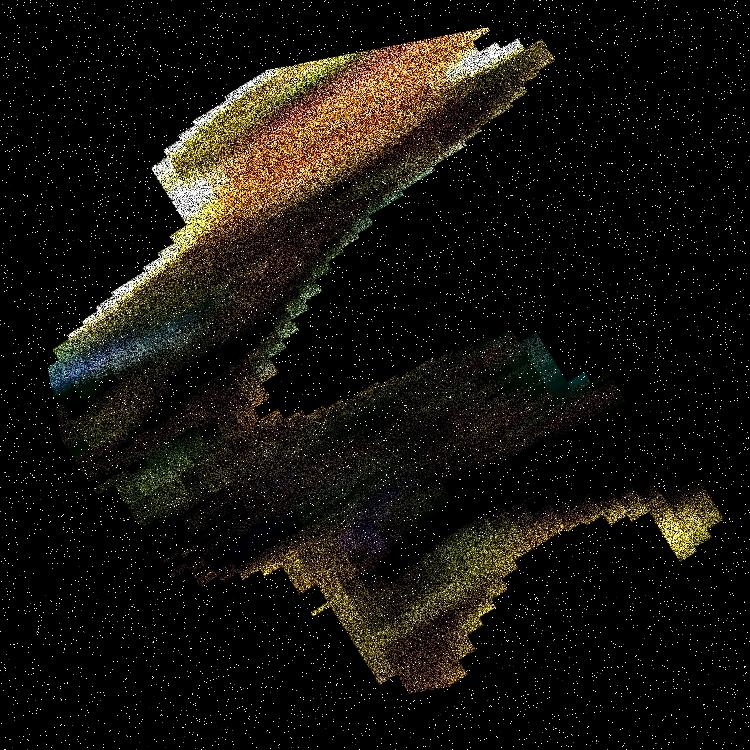Pessoa: (180, 0, 540, 749)
